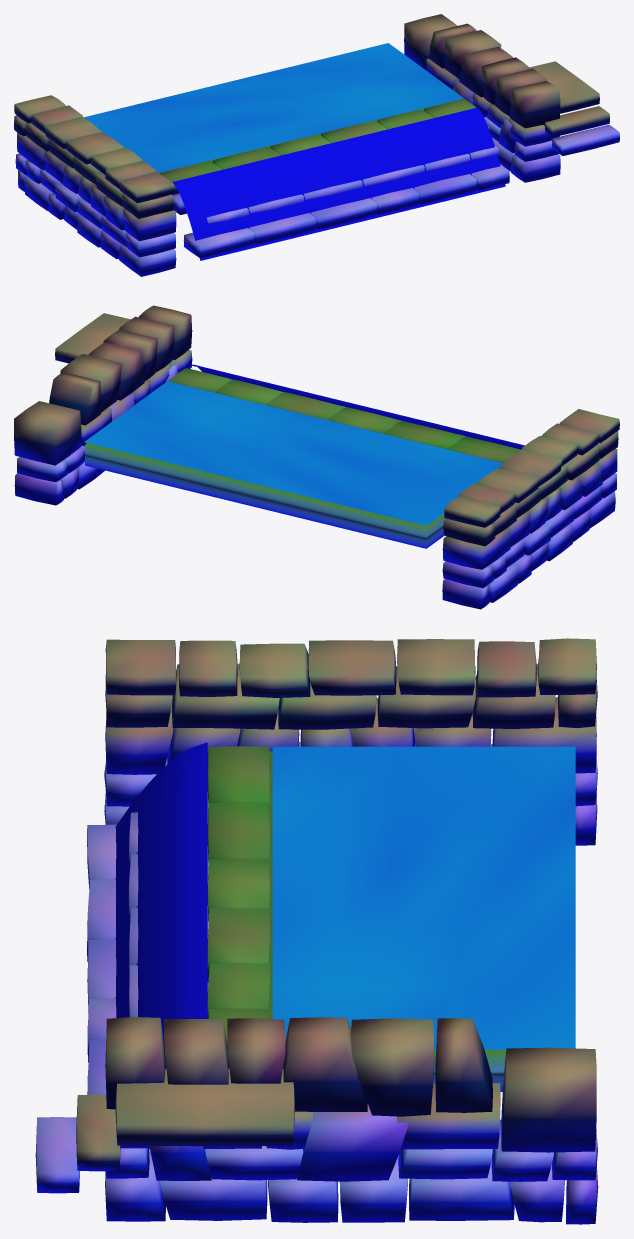
File: sea_cut_weir.glb
3 views of the same model, one above another, from view 1: azimuth 30°, elevation 25°; view 2: azimuth 150°, elevation 25°; view 3: azimuth 270°, elevation 25° (orthographic). The views are drawn at different scales.
Visible parts, largest first — view 1: sea_cut_weir; view 2: sea_cut_weir; view 3: sea_cut_weir.
Part boxes in pixels (x1=…): sea_cut_weir: x1=14, y1=14, x2=619, y2=276; sea_cut_weir: x1=14, y1=305, x2=619, y2=609; sea_cut_weir: x1=35, y1=638, x2=598, y2=1224.
Size of what is drawn, in the model's own units: 9.61 by 1.69 by 5.01.
